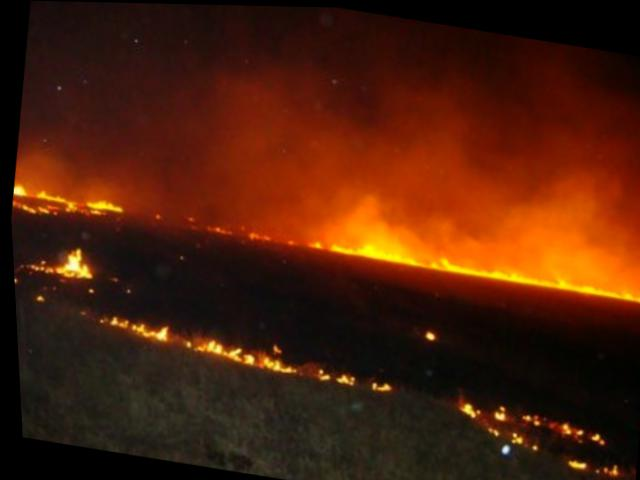fire: (10, 174, 639, 309), (95, 309, 399, 391), (444, 397, 624, 473), (14, 238, 98, 282)
